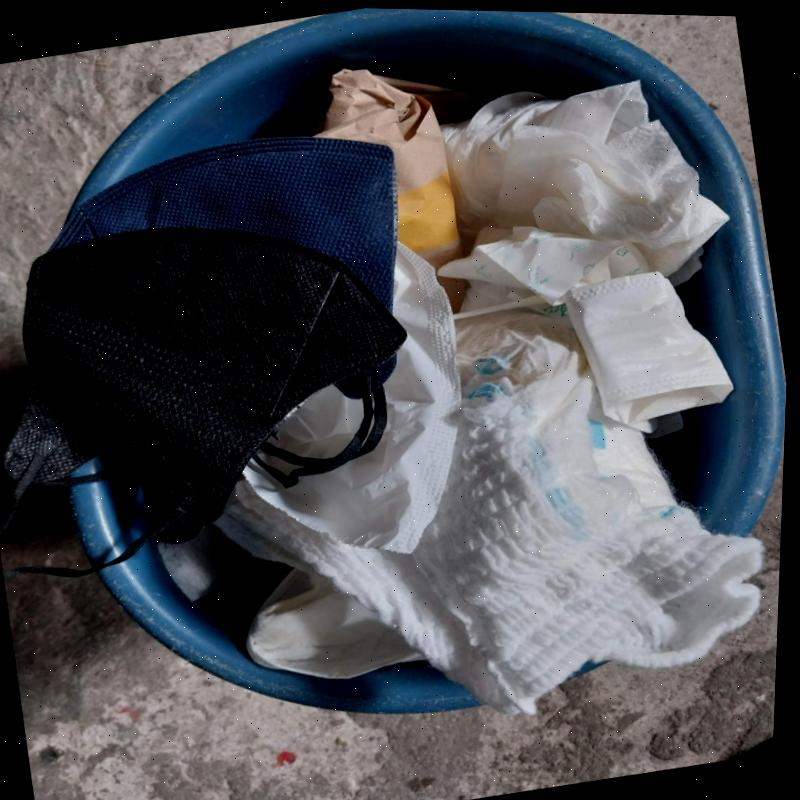facemask: (0, 228, 409, 580), (48, 136, 401, 313)
paper: (437, 81, 731, 307), (314, 70, 484, 269), (564, 271, 734, 439)
